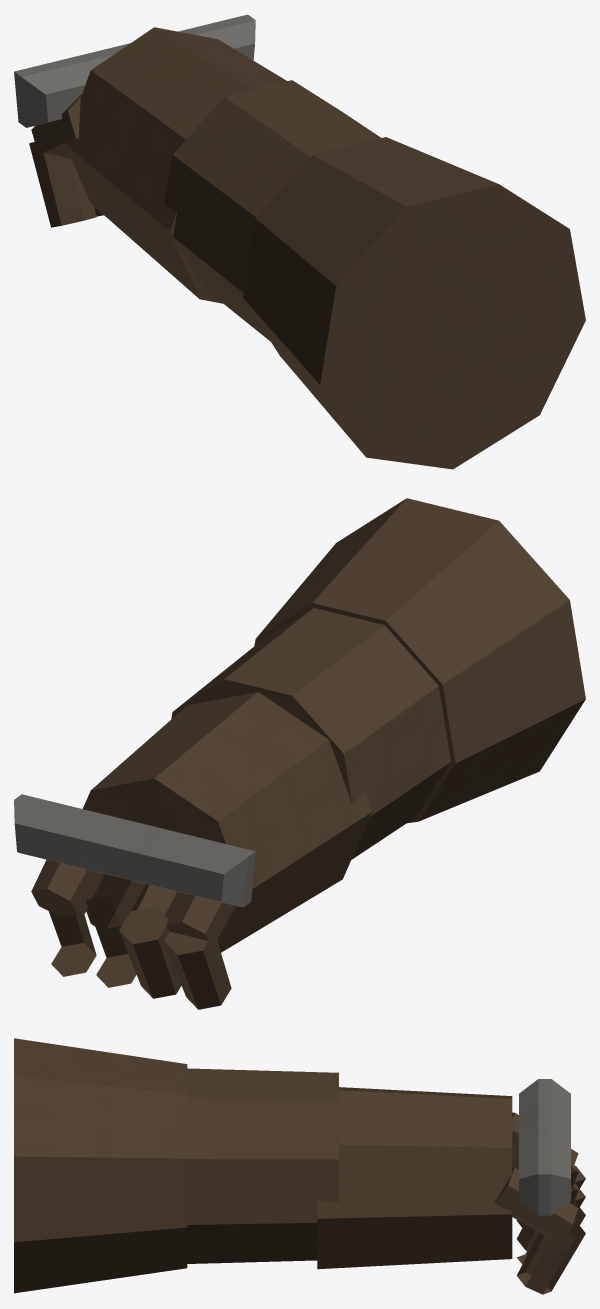
Rendered from wpn_gauntlet_common.glb.
3 renders of one model, top to bottom at view 1: azimuth 30°, elevation 25°; view 2: azimuth 150°, elevation 25°; view 3: azimuth 270°, elevation 25°, orthographic. The views are drawn at different scales.
Parts seen in each view (by area): view 1: wpn_gauntlet_common; view 2: wpn_gauntlet_common; view 3: wpn_gauntlet_common.
Part boxes in pixels (bbox=[...]): wpn_gauntlet_common: bbox=[14, 14, 585, 469]; wpn_gauntlet_common: bbox=[14, 498, 585, 1009]; wpn_gauntlet_common: bbox=[14, 1038, 585, 1294].
Size of the model in its own units: 0.1182 by 0.1164 by 0.2639.
2 materials, 2 textured.
